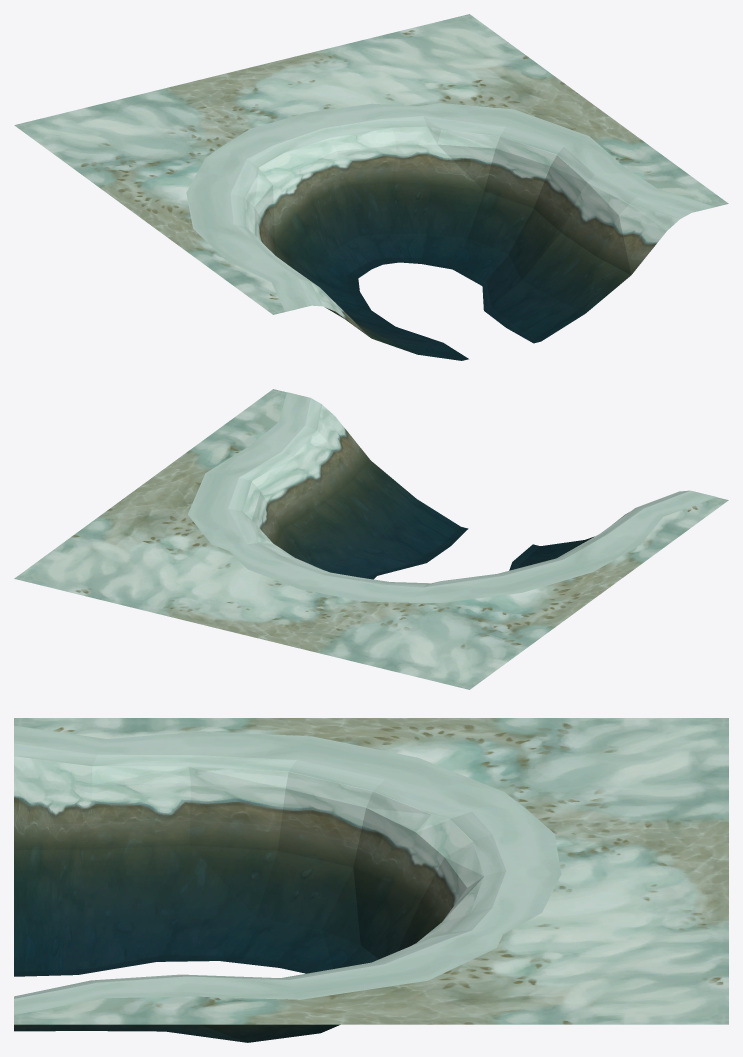
File: tundra_niche_riverbed01.fbx
The picture shows the model from 3 angles, top to bottom: view 1: azimuth 30°, elevation 25°; view 2: azimuth 150°, elevation 25°; view 3: azimuth 270°, elevation 25°; orthographic projection. The views are drawn at different scales.
Visible parts, largest first — view 1: obj2.005; view 2: obj2.005; view 3: obj2.005.
Boxes of the visible parts, x1,y1,x2,y2 form: obj2.005: [14, 14, 728, 360]; obj2.005: [14, 389, 728, 689]; obj2.005: [14, 718, 728, 1042].
Size of the model in its own units: 20.62 by 4 by 20.33.
